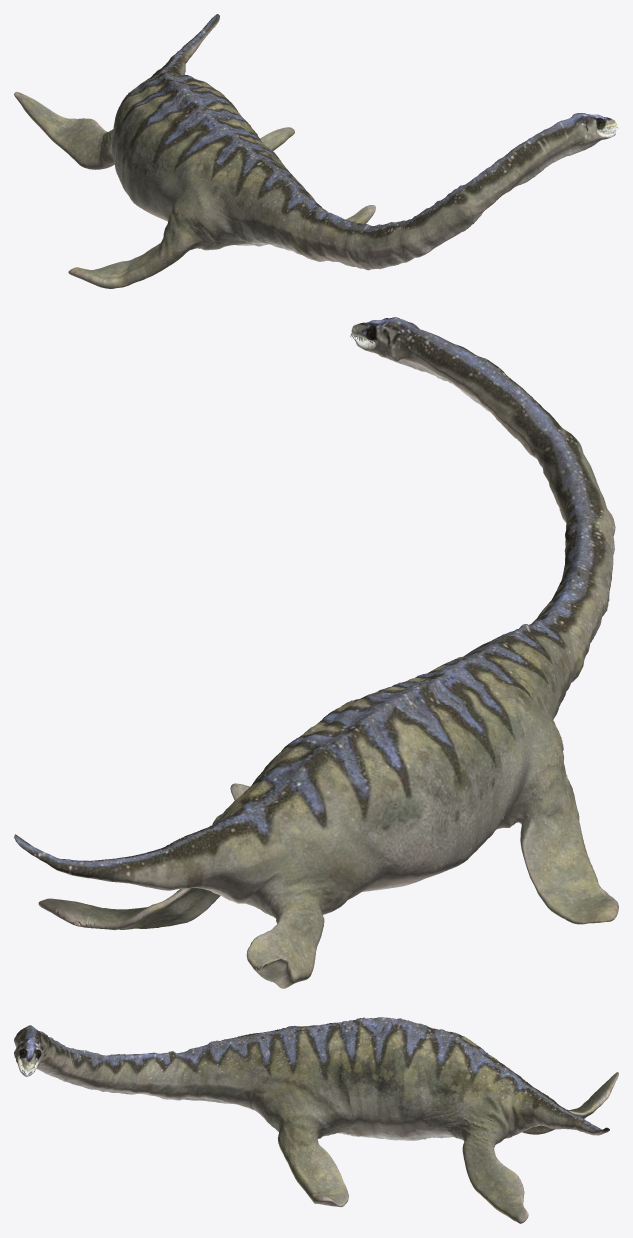
The model's file is plesiosaurus.glb.
3 renders of one model, top to bottom at view 1: azimuth 30°, elevation 25°; view 2: azimuth 150°, elevation 25°; view 3: azimuth 270°, elevation 25°, orthographic. The views are drawn at different scales.
Visible parts, largest first — view 1: Object_2; view 2: Object_2; view 3: Object_2.
Part boxes in pixels (box(x1,y1,x2,y2)): Object_2: box(14, 14, 618, 288); Object_2: box(14, 317, 618, 988); Object_2: box(14, 1017, 618, 1223).
Bounding box in the file's own units: 603 × 351 × 946.
Materials: 1 (1 with a texture image).
